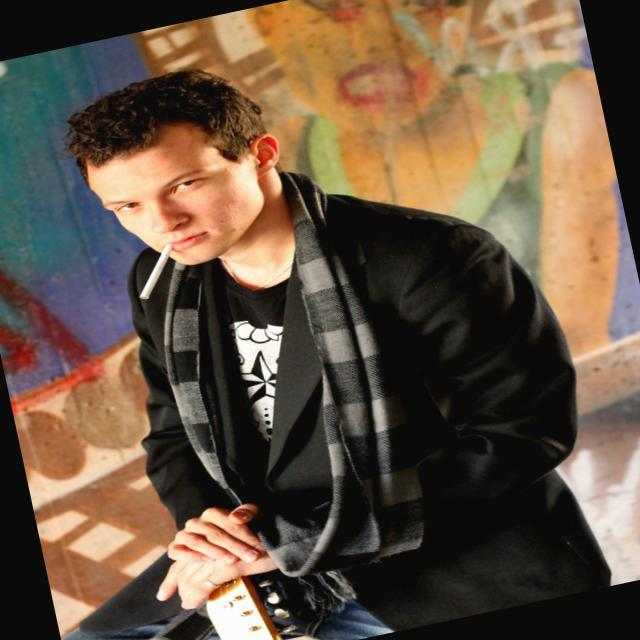smoke: (116, 242, 193, 310)
